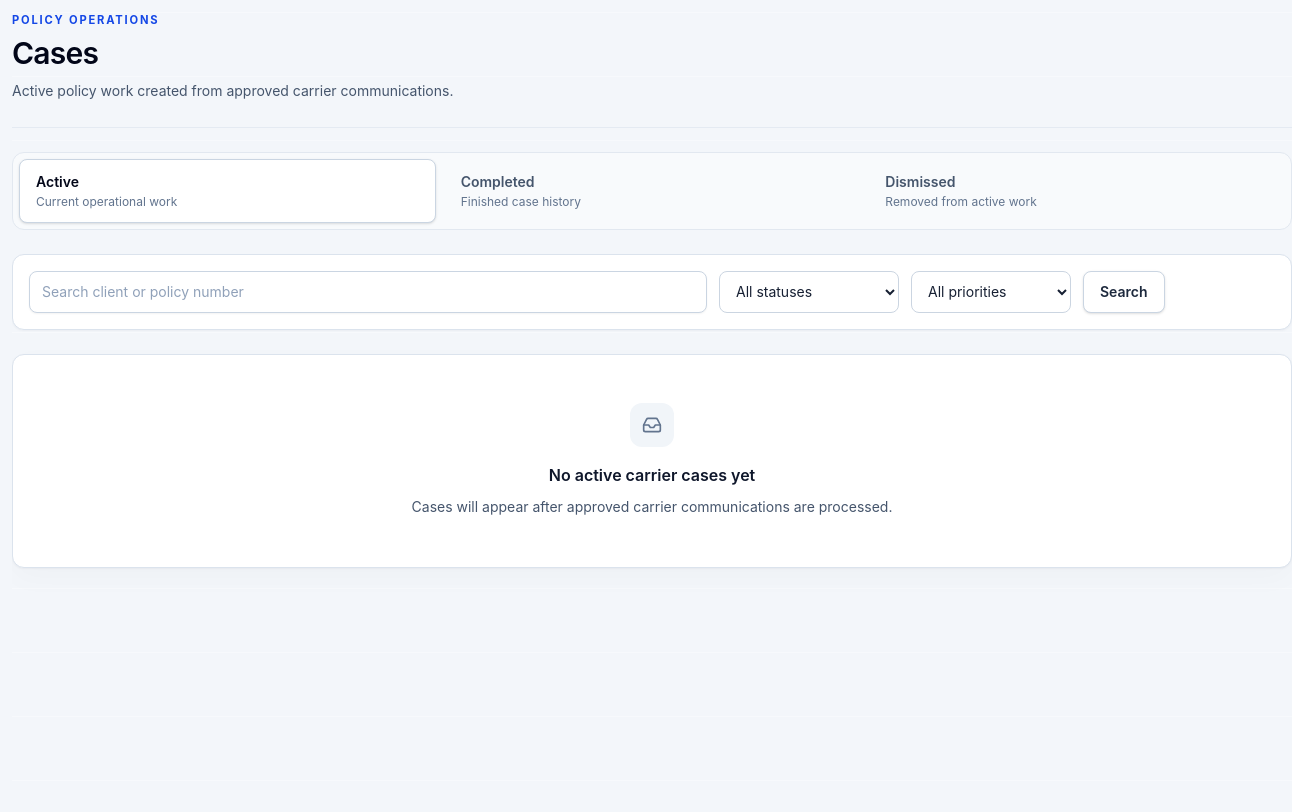
Test: CasesPage lifecycle filtering › defaults to Active and switches to mutually exclusive lifecycle categories
The image size is (1292, 812).
Check: the heading "No active carrier cases yet" is shown, box [549,465,755,485]
Check: the field labelled "Assigned agent" is not shown
Click the tab "Completed Finished case history" at (498, 181), box [444,159,860,223]
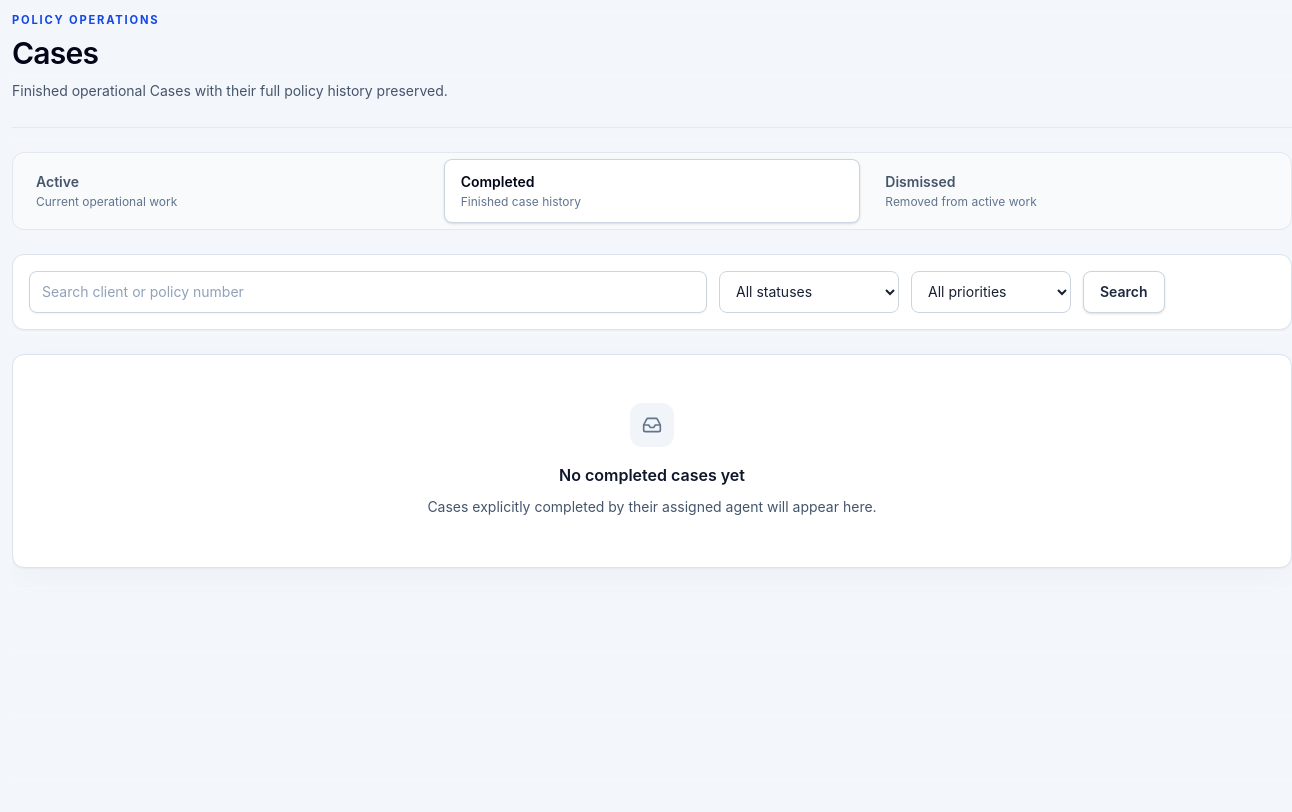
Check: the heading "No completed cases yet" is shown, box [559,465,745,485]
Click the tab "Dismissed Removed from active work" at (920, 181), box [868,159,1285,223]
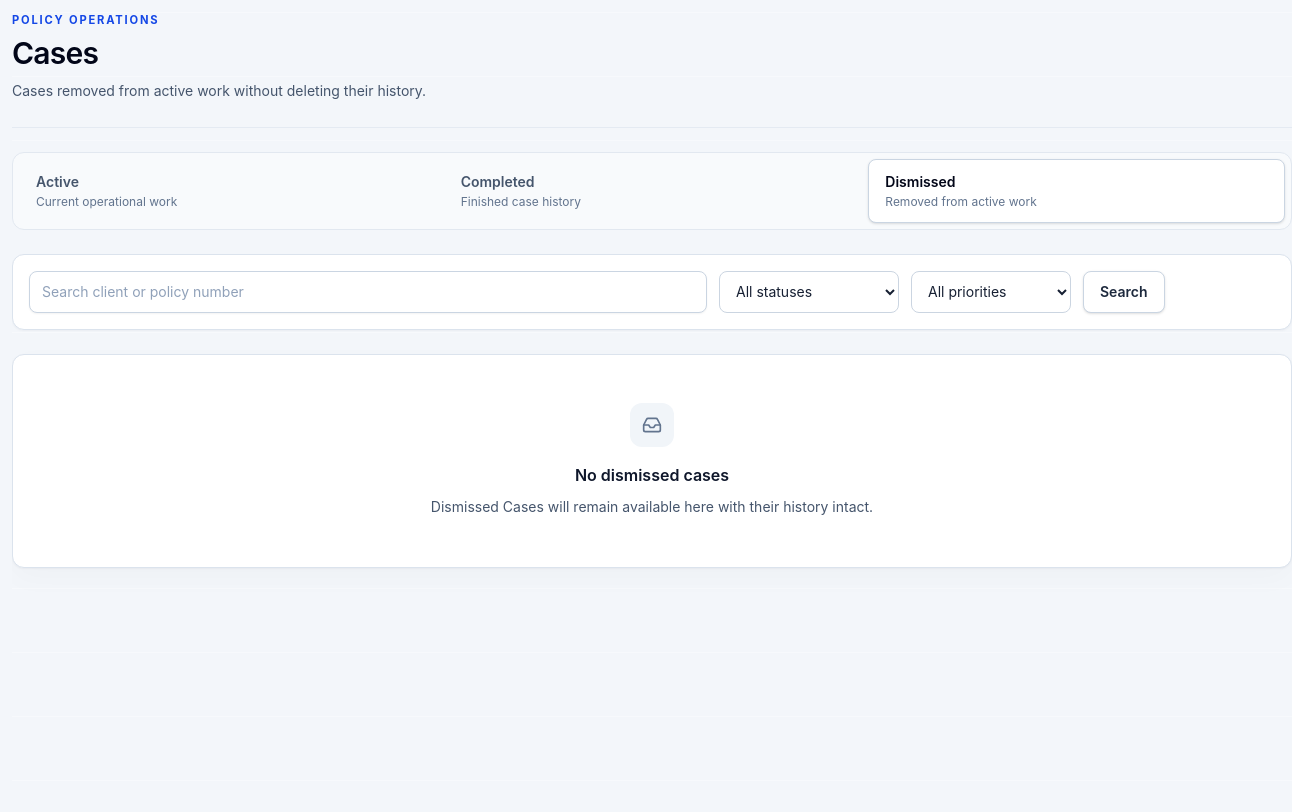
Check: the heading "No dismissed cases" is shown, box [575,465,729,485]
Type "missing policy" into the field named "Search cases" at (368, 292), box [29,271,707,313]
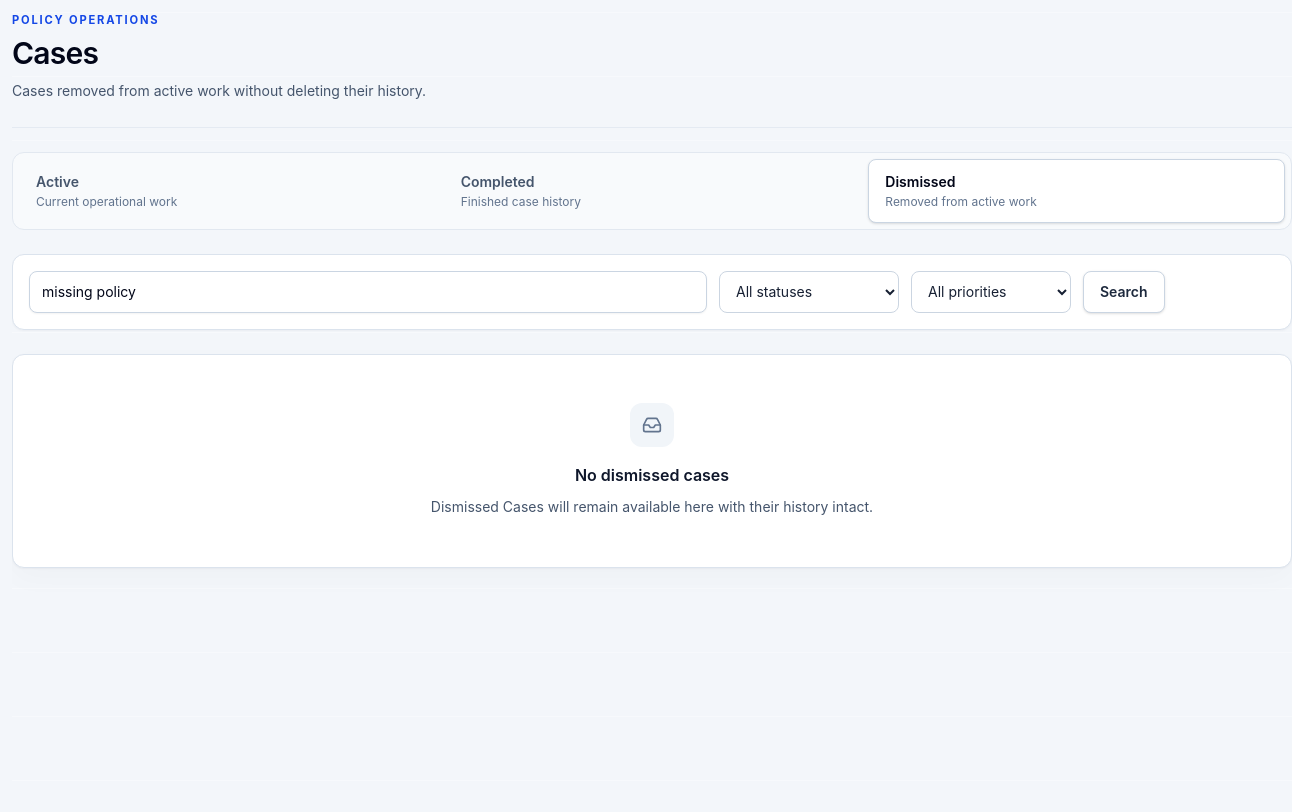
Click the button "Search" at (1124, 292), box [1083,271,1164,313]
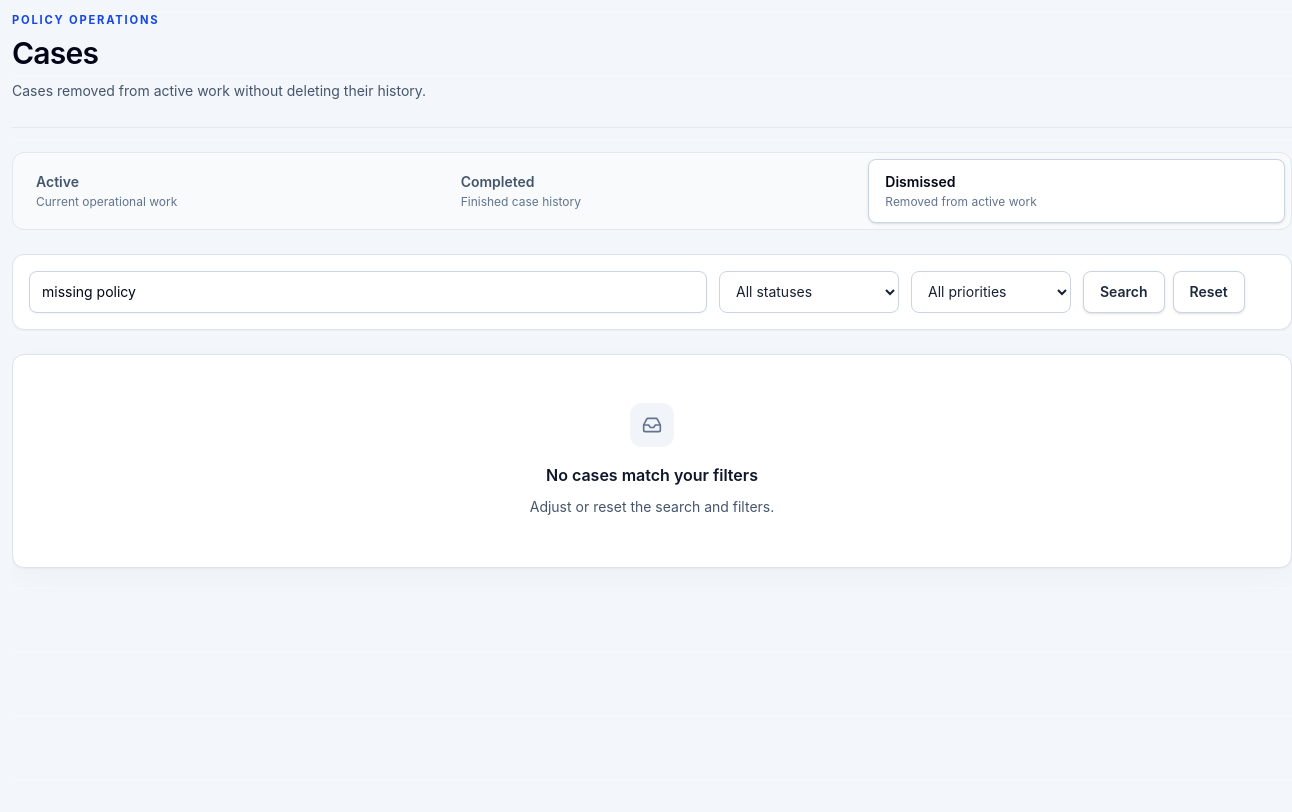
Check: the heading "No cases match your filters" is shown, box [546,465,758,485]
